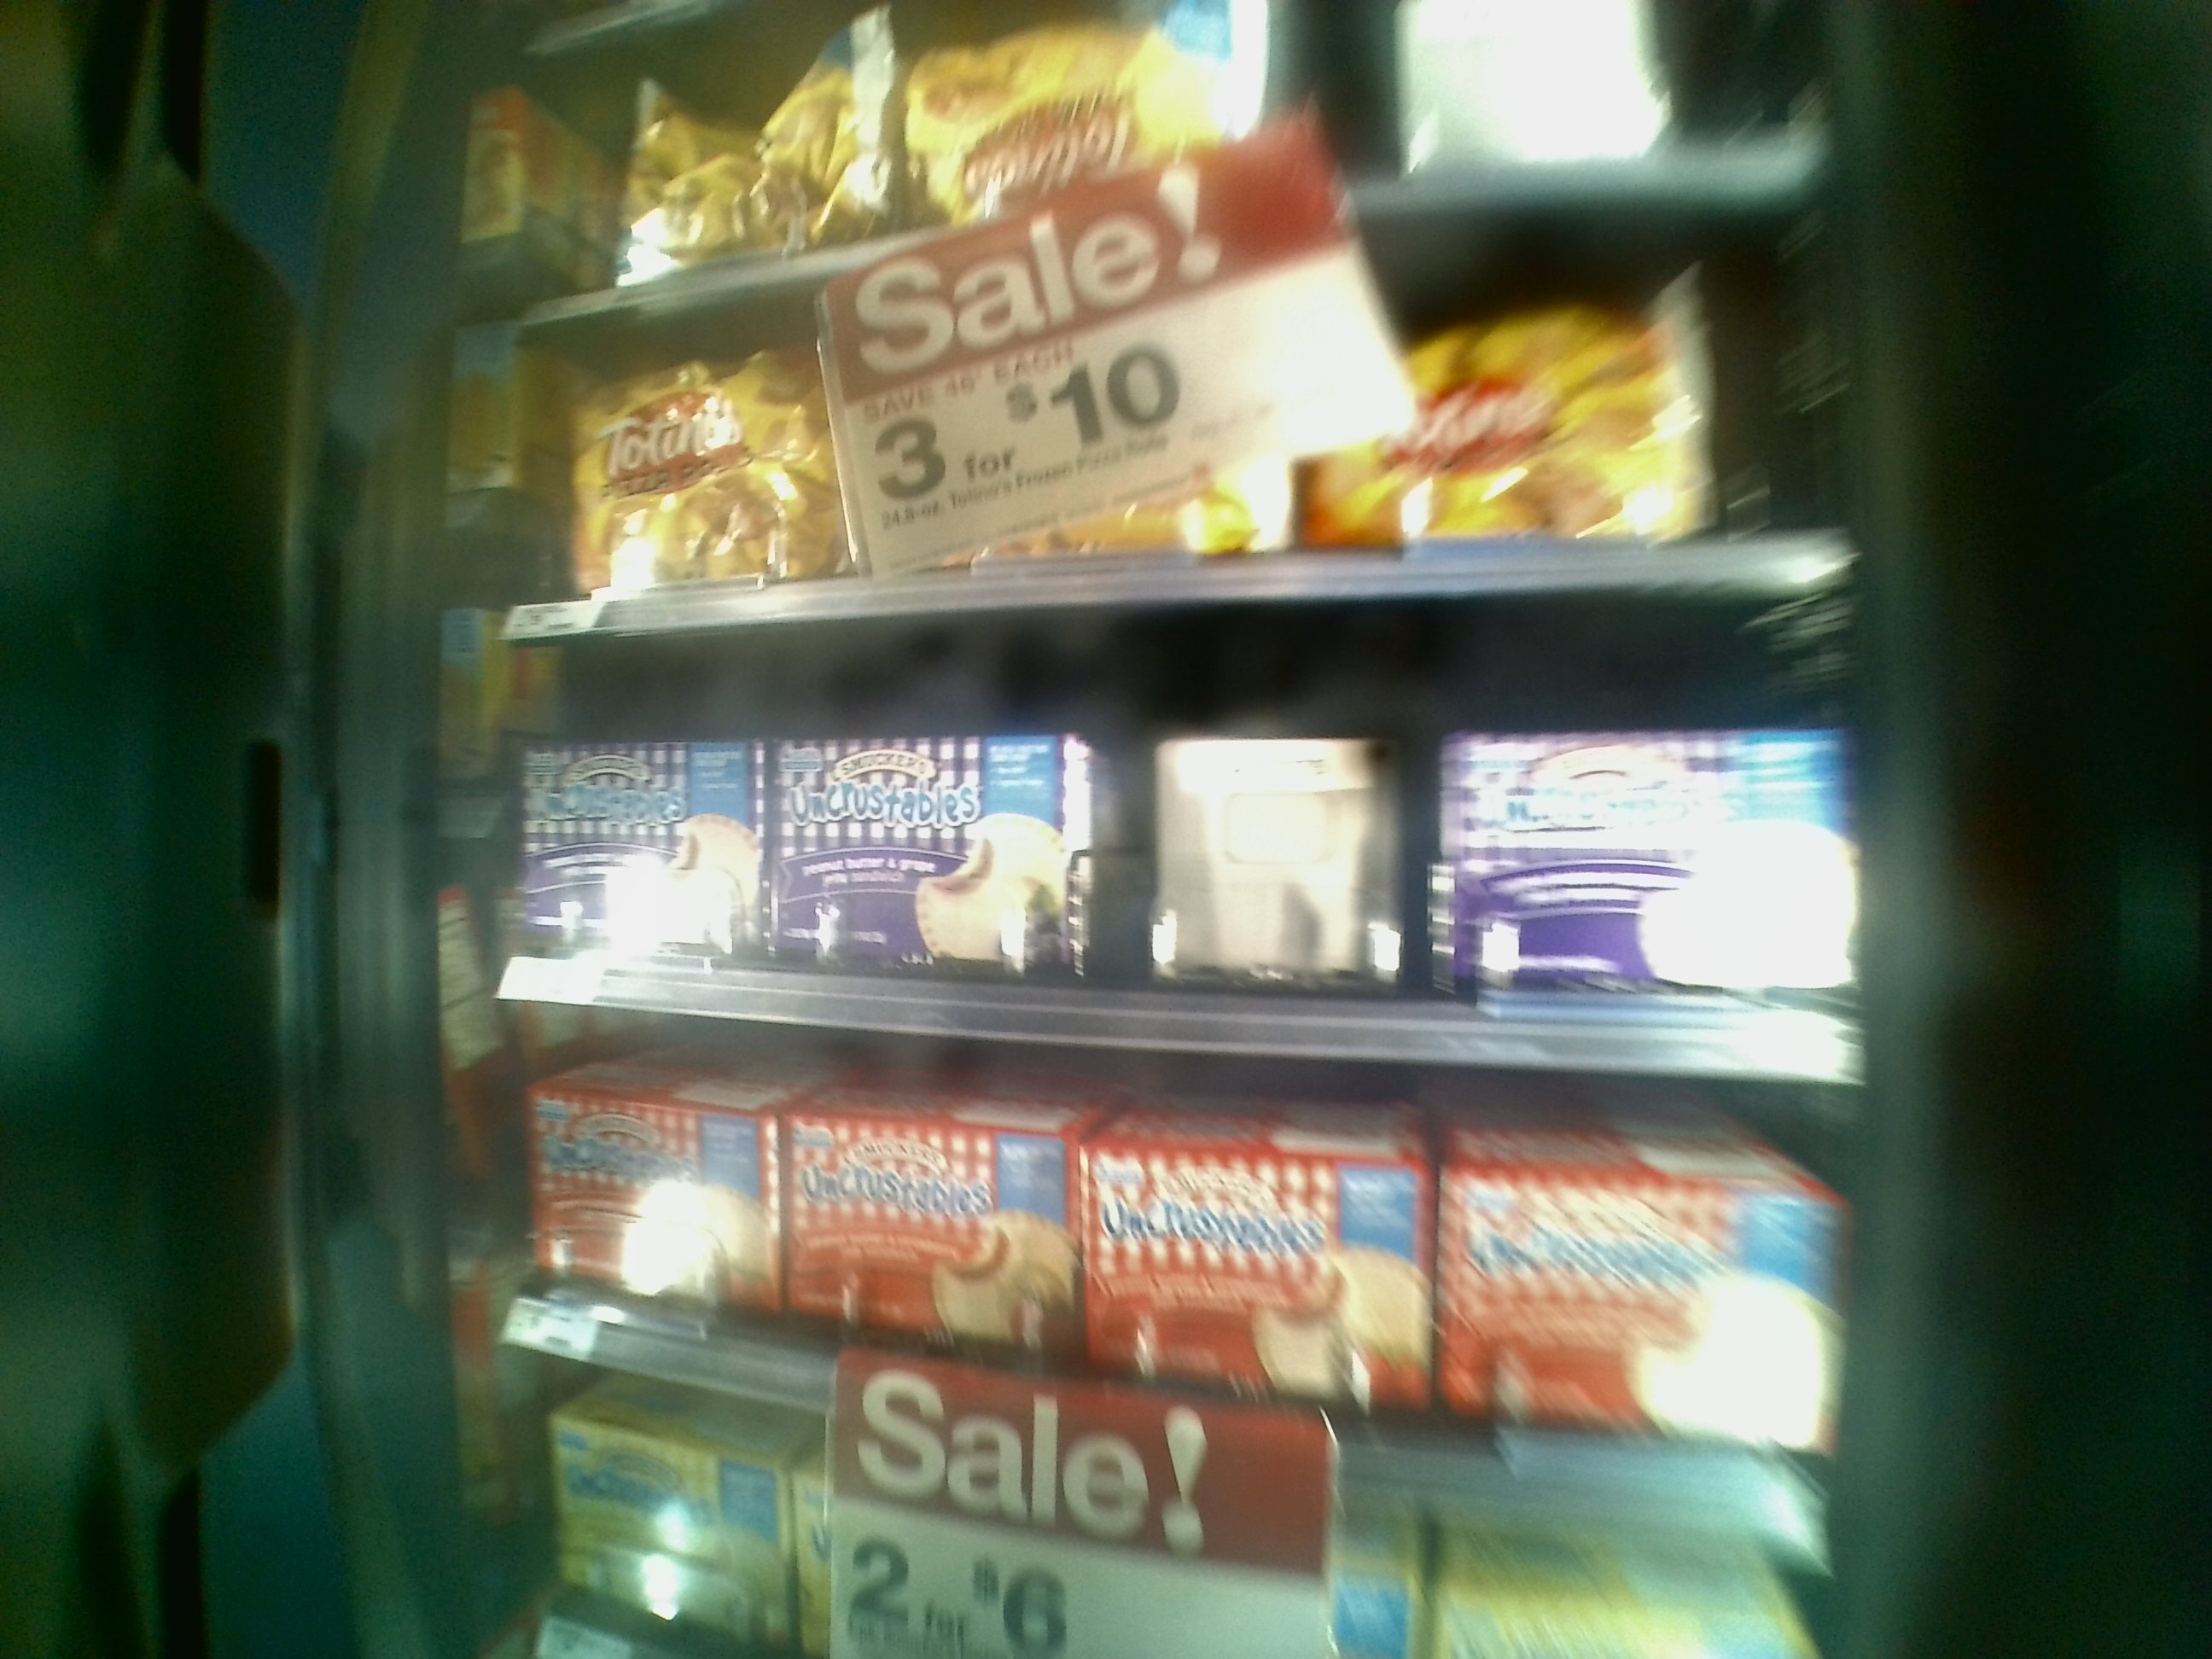shelf: (482, 1030, 1834, 1544), (498, 645, 1858, 1089), (512, 331, 1825, 636)
